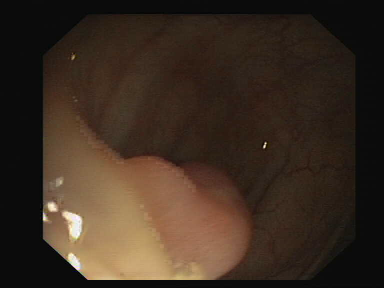polyp: (126, 114, 286, 272)
